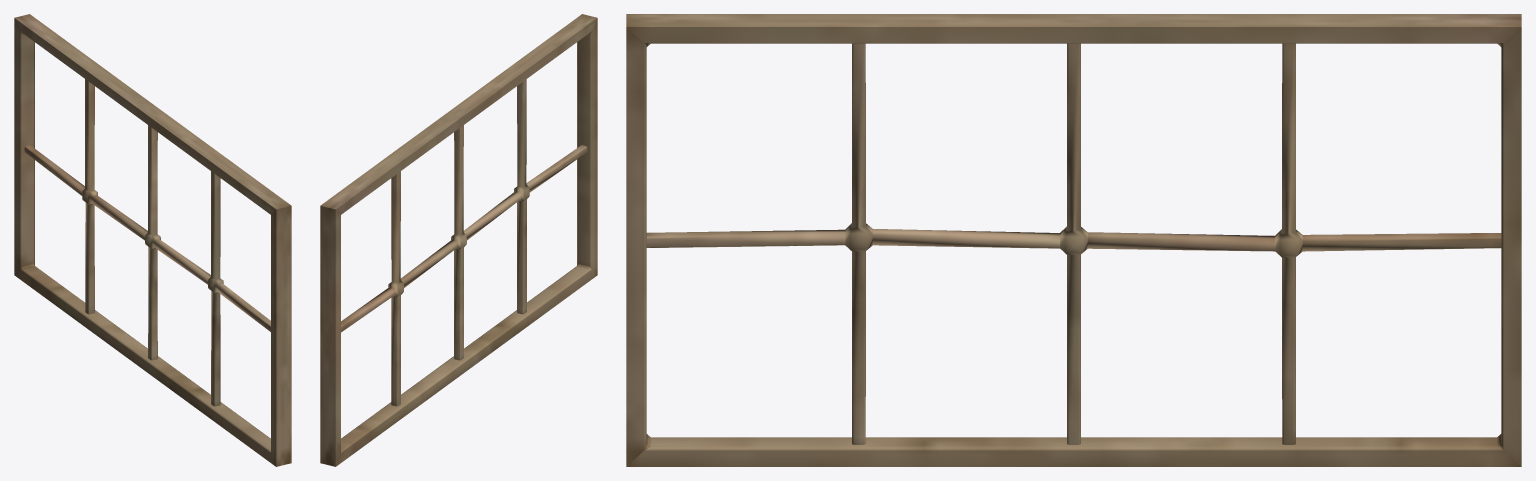
File: wall.window.bars.wood.glb
3 renders of one model, left to right at view 1: azimuth 30°, elevation 25°; view 2: azimuth 150°, elevation 25°; view 3: azimuth 270°, elevation 25°, orthographic. The views are drawn at different scales.
Parts seen in each view (by area): view 1: base_LOD0; view 2: base_LOD0; view 3: base_LOD0.
Boxes of the visible parts, left/top/right/bottom form: base_LOD0: left=14, top=14, right=291, bottom=466; base_LOD0: left=320, top=14, right=597, bottom=466; base_LOD0: left=626, top=14, right=1521, bottom=466.
Size of the model in its own units: 0.077 by 1.19 by 2.19.
1 material, 1 textured.
